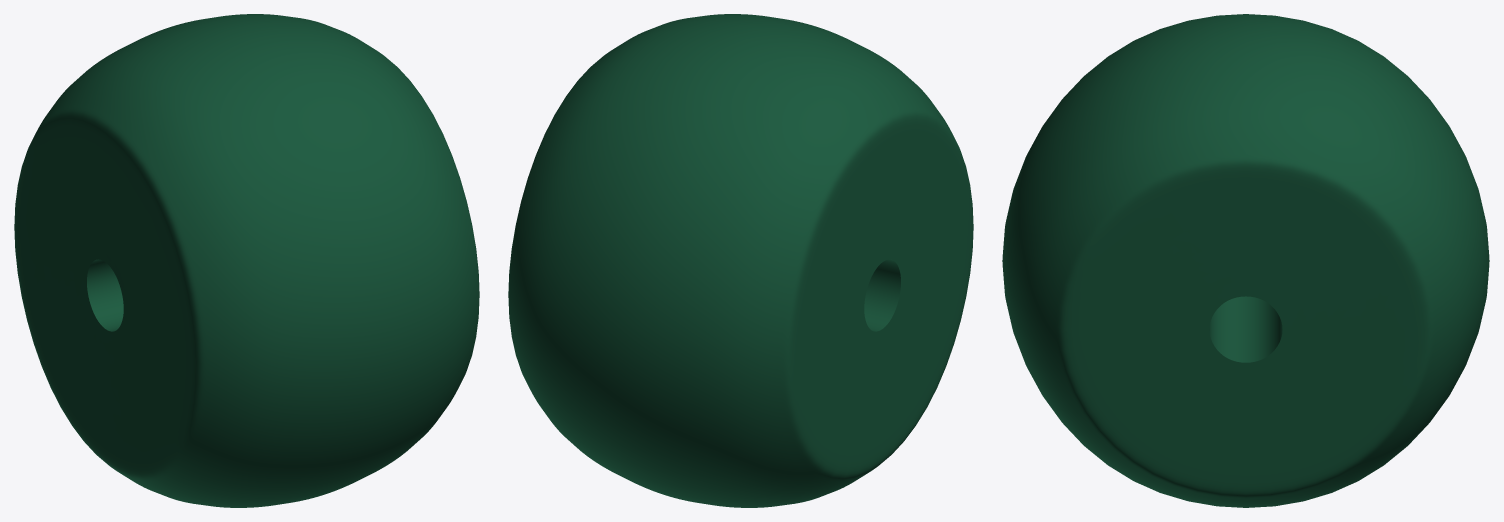
File: 绿药片.glb
3 renders of one model, left to right at view 1: azimuth 30°, elevation 25°; view 2: azimuth 150°, elevation 25°; view 3: azimuth 270°, elevation 25°, orthographic.
Visible parts, largest first — view 1: JewelCAD; view 2: JewelCAD; view 3: JewelCAD.
Boxes of the visible parts, left/top/right/bottom form: JewelCAD: left=14, top=14, right=479, bottom=507; JewelCAD: left=508, top=14, right=973, bottom=507; JewelCAD: left=1002, top=14, right=1489, bottom=507.
Bounding box in the file's own units: 0.004 × 0.006 × 0.006.
